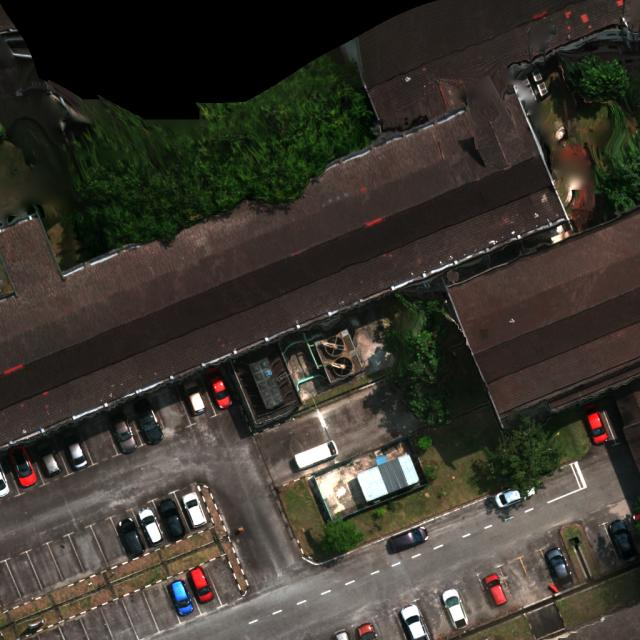blur tree: (382, 292, 455, 388), (479, 415, 563, 492), (591, 100, 640, 220), (561, 53, 631, 102), (400, 384, 455, 427)
tree: (319, 512, 365, 554), (418, 436, 433, 450), (374, 507, 386, 517)
tree_crowd: (60, 55, 373, 252)
